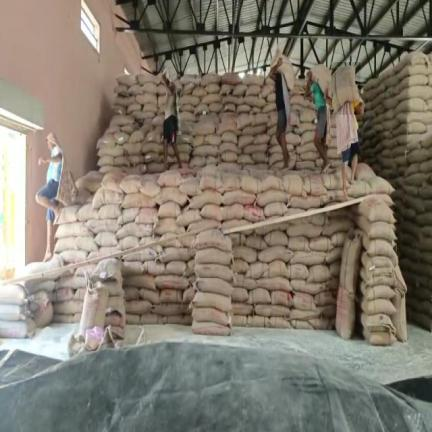Zone-Counting: (331, 66, 362, 194), (269, 51, 294, 167), (306, 64, 331, 169)
